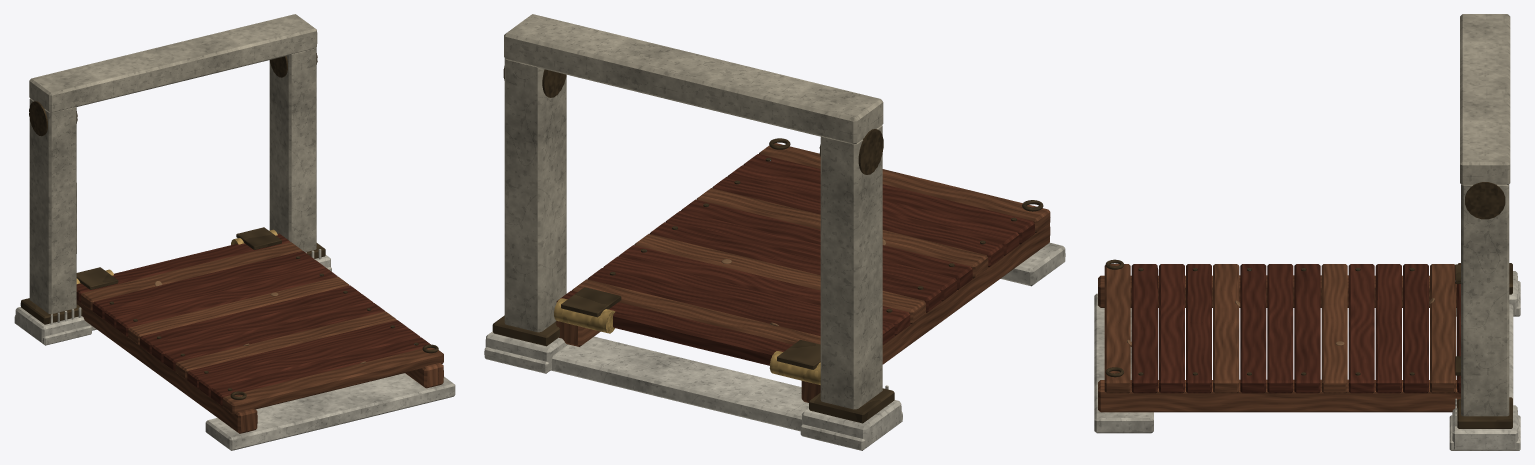
The picture shows the model from 3 angles, left to right: view 1: azimuth 30°, elevation 25°; view 2: azimuth 150°, elevation 25°; view 3: azimuth 270°, elevation 25°; orthographic projection. The views are drawn at different scales.
Visible parts, largest first — view 1: honed-limestone, quarter-sawn-timber, exposed-end-grain, carved-limestone-mouldings, dark-patinated-bronze-fittings (×2); view 2: honed-limestone, quarter-sawn-timber, exposed-end-grain, carved-limestone-mouldings, dark-patinated-bronze-fittings (×2), polished-bronze-bearing; view 3: quarter-sawn-timber, exposed-end-grain, honed-limestone, carved-limestone-mouldings, dark-patinated-bronze-fittings (×2).
Boxes of the visible parts, box(x1,y1,x2,y2) form: honed-limestone: box(29, 14, 317, 313); quarter-sawn-timber: box(76, 233, 430, 405); exposed-end-grain: box(76, 242, 443, 433); carved-limestone-mouldings: box(14, 249, 455, 450); dark-patinated-bronze-fittings (×2): box(20, 53, 438, 399); honed-limestone: box(504, 14, 883, 409); quarter-sawn-timber: box(556, 154, 1034, 365); exposed-end-grain: box(556, 143, 1050, 402); carved-limestone-mouldings: box(484, 242, 1065, 450); dark-patinated-bronze-fittings (×2): box(492, 66, 1043, 423); polished-bronze-bearing: box(554, 298, 820, 384); quarter-sawn-timber: box(1131, 264, 1460, 393); exposed-end-grain: box(1098, 264, 1460, 412); honed-limestone: box(1460, 14, 1510, 416); carved-limestone-mouldings: box(1094, 264, 1520, 450); dark-patinated-bronze-fittings (×2): box(1105, 182, 1512, 428).
Bounding box in the file's own units: 2.05 × 1.67 × 2.28.
Materials: 9 (7 with a texture image).
